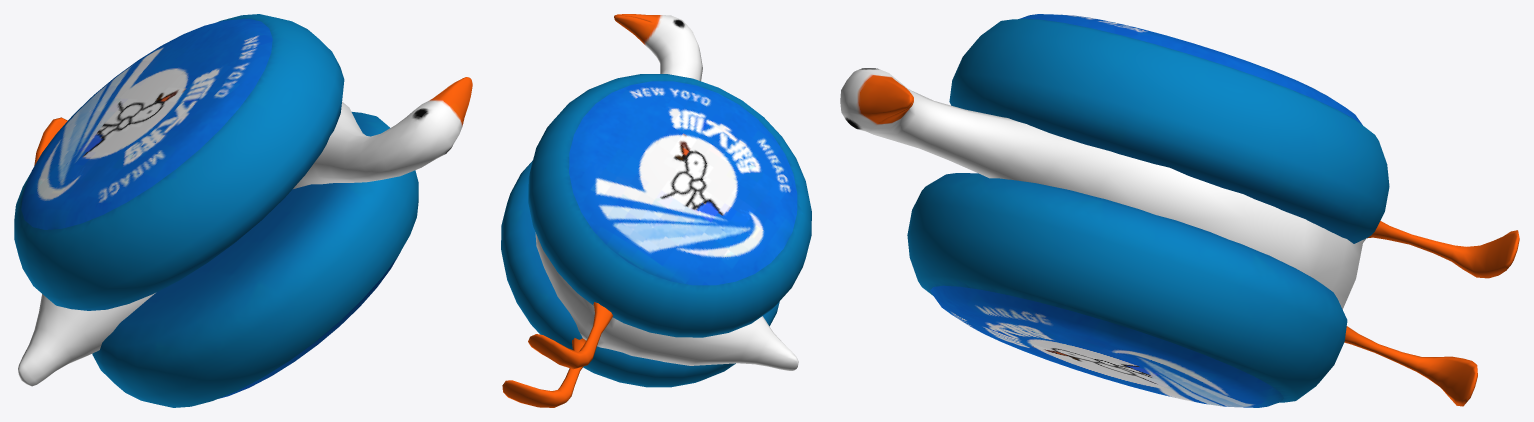
The model's file is Goose_GTYoYo.obj.
3 views of the same model, side by side, from view 1: azimuth 30°, elevation 25°; view 2: azimuth 150°, elevation 25°; view 3: azimuth 270°, elevation 25° (orthographic). The views are drawn at different scales.
Visible parts, largest first — view 1: youyouqiu, e; view 2: youyouqiu, e; view 3: youyouqiu, e.
Boxes of the visible parts, left/top/right/bottom form: youyouqiu: left=14, top=14, right=418, bottom=407; e: left=18, top=77, right=472, bottom=386; youyouqiu: left=501, top=74, right=811, bottom=387; e: left=502, top=14, right=798, bottom=407; youyouqiu: left=907, top=14, right=1389, bottom=407; e: left=840, top=68, right=1519, bottom=406.
Bounding box in the file's own units: 1.42 × 1.28 × 1.91.
